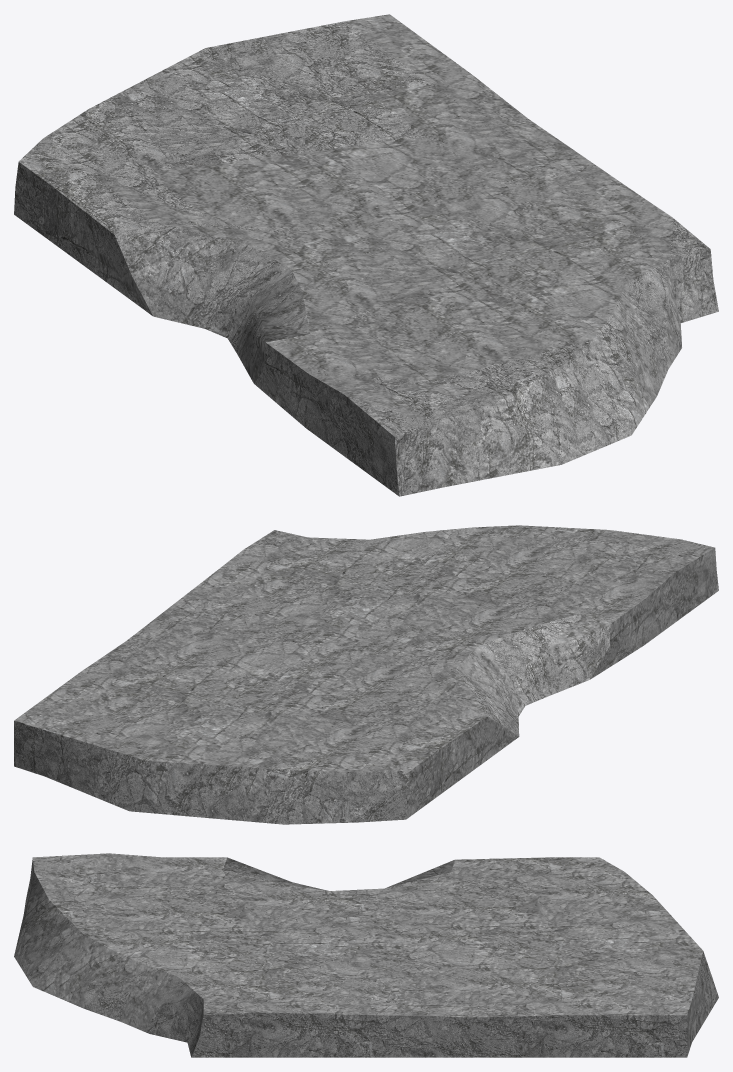
The model's file is materials_3_road_13.fbx.
The picture shows the model from 3 angles, top to bottom: view 1: azimuth 30°, elevation 25°; view 2: azimuth 150°, elevation 25°; view 3: azimuth 270°, elevation 25°; orthographic projection. The views are drawn at different scales.
Parts seen in each view (by area): view 1: materials_3_road_13; view 2: materials_3_road_13; view 3: materials_3_road_13.
Boxes of the visible parts, <box> form: materials_3_road_13: <box>14,14,718,496</box>; materials_3_road_13: <box>14,525,718,824</box>; materials_3_road_13: <box>14,853,718,1057</box>.
Bounding box in the file's own units: 235 × 32.09 × 441.
